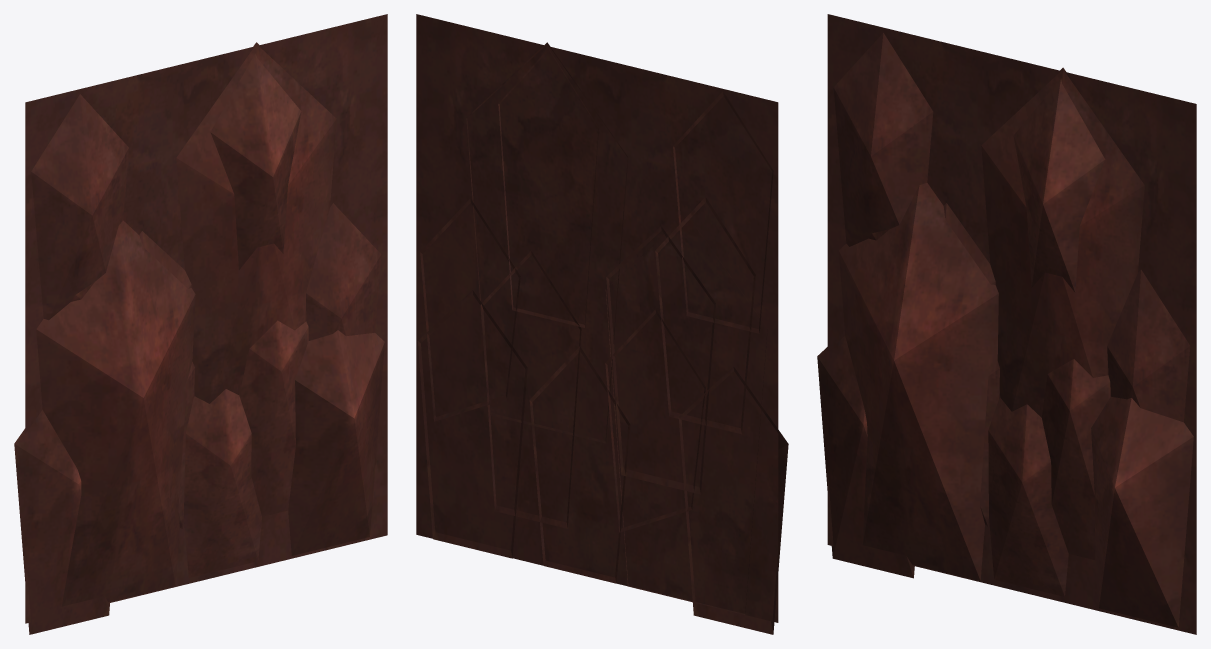
File: lava_wall_straight_02.fbx
3 renders of one model, left to right at view 1: azimuth 30°, elevation 25°; view 2: azimuth 150°, elevation 25°; view 3: azimuth 330°, elevation 25°, orthographic.
Parts seen in each view (by area): view 1: obj1.005; view 2: obj1.005; view 3: obj1.005.
Boxes of the visible parts, box(x1,y1,x2,y2) form: obj1.005: box(14, 14, 387, 634); obj1.005: box(416, 14, 788, 634); obj1.005: box(817, 14, 1196, 634).
Size of the model in its own units: 4.12 by 5.67 by 0.5154.
